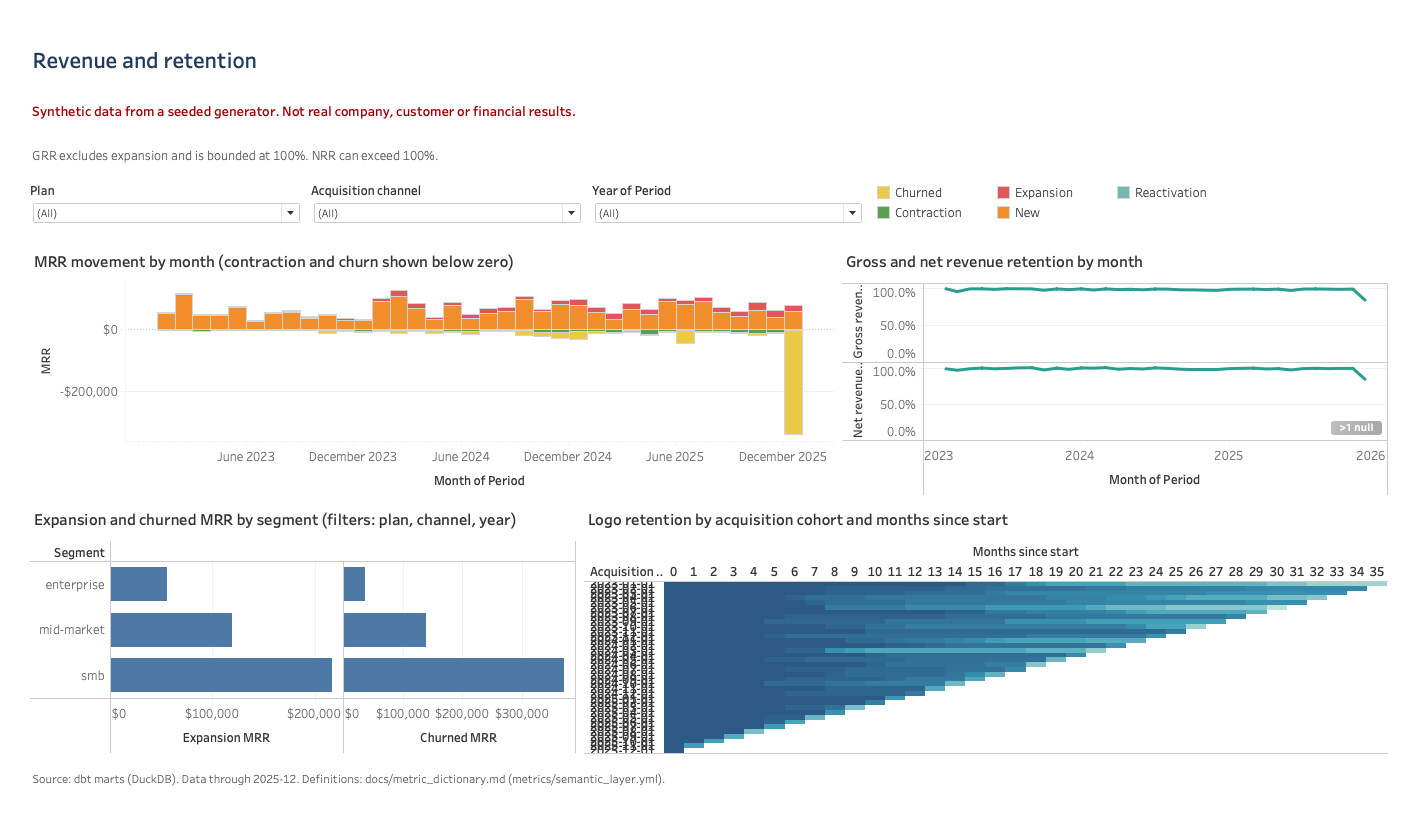

Layout of this report page (visuals, bound fields, positions):
{"tool":"tableau","page":{"name":"Revenue and retention","canvas":[1366,768],"ordinal":1},"visuals":[{"type":"text","box":[0,0,1366,73.5]},{"type":"text","box":[0,73.5,1366,36.8]},{"type":"text","box":[0,110.3,1366,36.8]},{"type":"filter","title":"Movement by segment","param":"[federated.d8b44bd3b97d642c2457b2cdc5de].[none:plan_name:nk]","box":[0,147.1,273.2,65.4]},{"type":"filter","title":"Movement by segment","param":"[federated.d8b44bd3b97d642c2457b2cdc5de].[none:acquisition_channel:nk]","box":[273.2,147.1,273.2,65.4]},{"type":"filter","title":"Movement by segment","param":"[federated.d8b44bd3b97d642c2457b2cdc5de].[yr:month_start:ok]","box":[546.4,147.1,273.2,65.4]},{"type":"legend","title":"MRR movement by month","param":"[federated.428808ea1f9f69e913ce894c29a7].[none:component:nk]","box":[819.6,147.1,546.4,65.4]},{"type":"worksheet","title":"MRR movement by month","mark":"Bar","rows":["value"],"cols":["month_start"],"box":[0,212.4,819.6,261.5]},{"type":"worksheet","title":"Retention trend","mark":"Line","rows":["gross_revenue_retention","net_revenue_retention"],"cols":["month_start"],"box":[819.6,212.4,546.4,261.5]},{"type":"worksheet","title":"Movement by segment","mark":"Bar","rows":["segment"],"cols":["expansion_mrr","churned_mrr"],"box":[0,473.9,546.4,261.5]},{"type":"worksheet","title":"Cohort logo retention","mark":"Square","rows":["cohort_month"],"cols":["months_since_start"],"box":[546.4,473.9,819.6,261.5]},{"type":"text","box":[0,735.3,1366,32.7]}]}

Visuals, with their boxes on the page's 1366x768 design canvas (x1, y1, x2, y2). These are canvas units, not pixel positions in the 1424x826 screenshot, which may show the page scaled, cropped or inside an application window:
text: 0:0:1366:74
text: 0:74:1366:110
text: 0:110:1366:147
"Movement by segment" filter: 0:147:273:212
"Movement by segment" filter: 273:147:546:212
"Movement by segment" filter: 546:147:820:212
"MRR movement by month" legend: 820:147:1366:212
"MRR movement by month" worksheet (Bar marks): 0:212:820:474
"Retention trend" worksheet (Line marks): 820:212:1366:474
"Movement by segment" worksheet (Bar marks): 0:474:546:735
"Cohort logo retention" worksheet (Square marks): 546:474:1366:735
text: 0:735:1366:768
